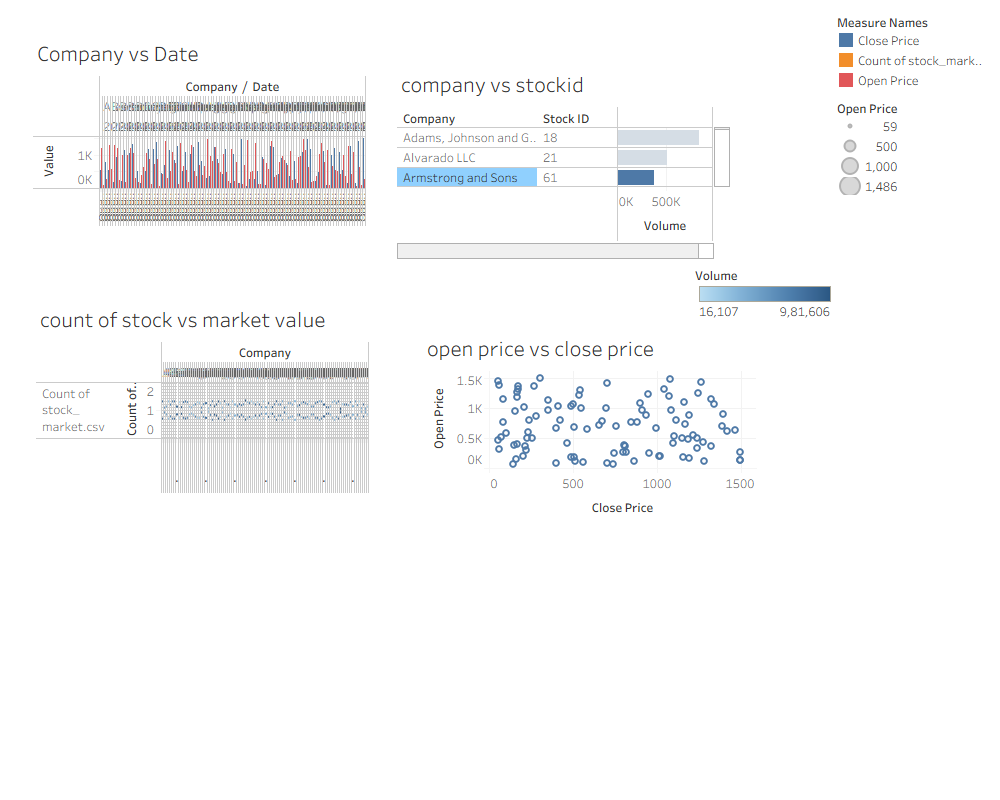

The page's visual inventory and layout, read from the dashboard file:
{"tool":"tableau","page":{"name":"Dashboard 1","canvas":[1000,800],"ordinal":0},"visuals":[{"type":"legend","title":"Sheet 1","param":"[federated.0l1sarq12nep6b1e2ko6d02rzcr2].[:Measure Names]","box":[832,8,160,86]},{"type":"worksheet","title":"Sheet 1","mark":"Bar","cols":["Company","Date"],"box":[33,33,333,195]},{"type":"worksheet","title":"Sheet 2","mark":"Automatic","rows":["Company","Stock_ID"],"cols":["Volume"],"box":[397,64,333,195]},{"type":"legend","title":"Sheet 3","param":"[federated.0l1sarq12nep6b1e2ko6d02rzcr2].[sum:Open_Price:qk]","box":[832,94,160,106]},{"type":"legend","title":"Sheet 3","param":"[federated.0l1sarq12nep6b1e2ko6d02rzcr2].[sum:Volume:qk]","box":[695,263,140,76]},{"type":"worksheet","title":"Sheet 3","mark":"Automatic","rows":["stock_market.csv_B1C2954A0A32467A9722938164AC60EC"],"cols":["Company","Close_Price"],"box":[36,299,333,195]},{"type":"worksheet","title":"Sheet 4","mark":"Shape","rows":["Open_Price"],"cols":["Close_Price"],"box":[423,328,333,195]}]}

Visuals, with their boxes in screenshot pixels (x1, y1, x2, y2), scaled from the page's 1000x800 canvas onto the 1000x800 screenshot:
"Sheet 1" legend: 832/8/992/94
"Sheet 1" worksheet (Bar marks): 33/33/366/228
"Sheet 2" worksheet: 397/64/730/259
"Sheet 3" legend: 832/94/992/200
"Sheet 3" legend: 695/263/835/339
"Sheet 3" worksheet: 36/299/369/494
"Sheet 4" worksheet (Shape marks): 423/328/756/523
